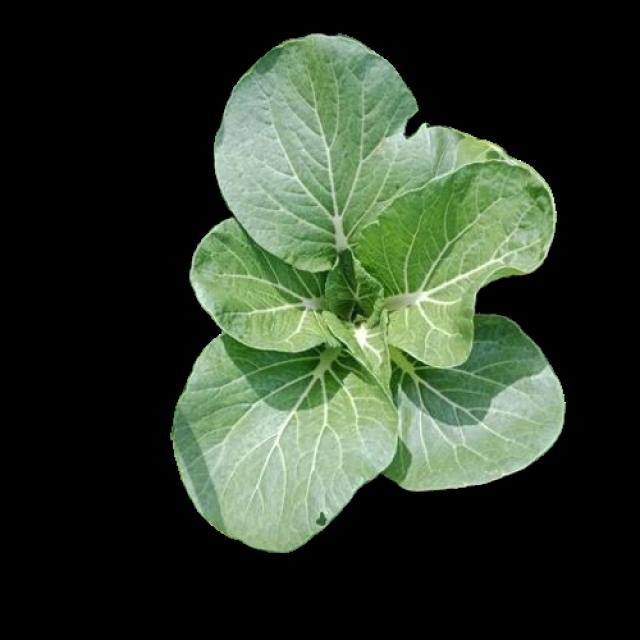healthy: (169, 28, 567, 554)
mature: (172, 31, 570, 557)
